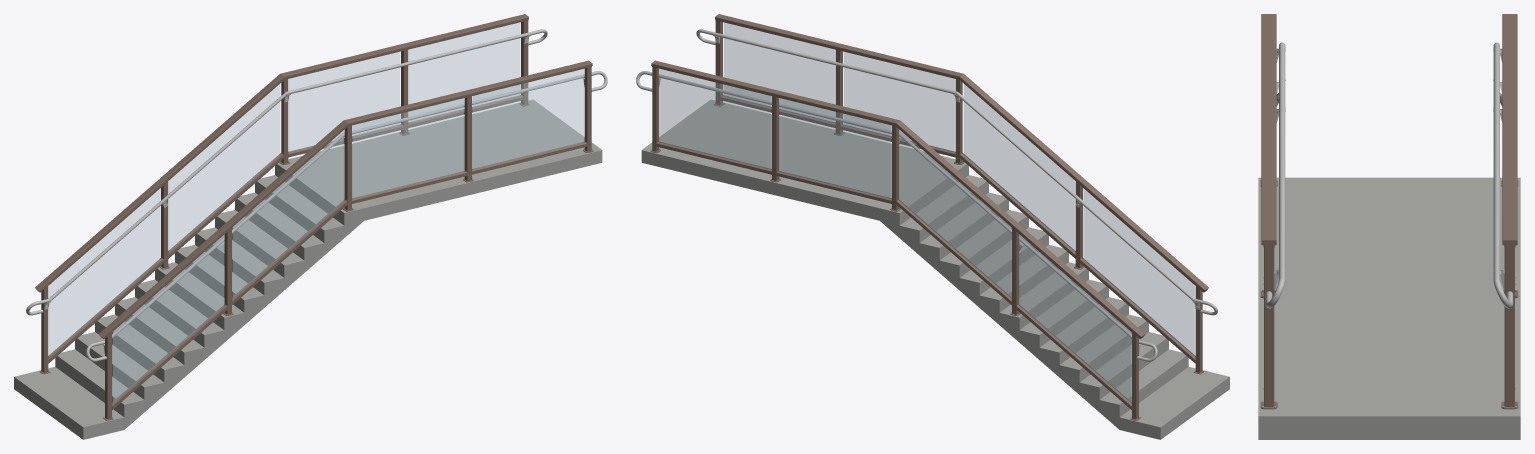
3 views of the same model, side by side, from view 1: azimuth 30°, elevation 25°; view 2: azimuth 150°, elevation 25°; view 3: azimuth 270°, elevation 25° (orthographic). The views are drawn at different scales.
Parts seen in each view (by area): view 1: Component_59_1, Component_63_1, Component_63_2, Component_21_1, Component_21_2, Component_21_3, Component_21_4, Component_63_4, Component_63_3, Component_58_1, Component_58_2, Component_13_2 (+16 smaller); view 2: Component_59_1, Component_63_3, Component_63_4, Component_21_3, Component_21_4, Component_21_1, Component_21_2, Component_63_2, Component_63_1, Component_58_2, Component_58_1, Component_13_1 (+16 smaller); view 3: Component_59_1, Component_58_2, Component_58_1, Component_13_1, Component_13_2, Component_28_1, Component_28_2.
Boxes of the visible parts, x1=… form: Component_59_1: x1=14, y1=99, x2=602, y2=439; Component_63_1: x1=473, y1=69, x2=583, y2=169; Component_63_2: x1=353, y1=98, x2=463, y2=198; Component_21_1: x1=113, y1=235, x2=223, y2=402; Component_21_2: x1=233, y1=130, x2=343, y2=297; Component_21_3: x1=49, y1=189, x2=160, y2=356; Component_21_4: x1=169, y1=84, x2=279, y2=251; Component_63_4: x1=289, y1=52, x2=399, y2=152; Component_63_3: x1=409, y1=22, x2=519, y2=122; Component_58_1: x1=35, y1=14, x2=528, y2=292; Component_58_2: x1=99, y1=60, x2=592, y2=338; Component_13_2: x1=26, y1=29, x2=547, y2=315; Component_59_1: x1=641, y1=99, x2=1229, y2=439; Component_63_3: x1=660, y1=69, x2=770, y2=169; Component_63_4: x1=780, y1=98, x2=890, y2=198; Component_21_3: x1=1020, y1=235, x2=1130, y2=402; Component_21_4: x1=900, y1=130, x2=1010, y2=297; Component_21_1: x1=1083, y1=189, x2=1194, y2=356; Component_21_2: x1=964, y1=84, x2=1074, y2=251; Component_63_2: x1=844, y1=52, x2=954, y2=152; Component_63_1: x1=724, y1=22, x2=834, y2=122; Component_58_2: x1=715, y1=14, x2=1208, y2=292; Component_58_1: x1=651, y1=60, x2=1144, y2=338; Component_13_1: x1=696, y1=29, x2=1217, y2=315; Component_59_1: x1=1258, y1=177, x2=1520, y2=439; Component_58_2: x1=1261, y1=14, x2=1276, y2=247; Component_58_1: x1=1502, y1=14, x2=1517, y2=247; Component_13_1: x1=1265, y1=42, x2=1285, y2=308; Component_13_2: x1=1493, y1=42, x2=1513, y2=308; Component_28_1: x1=1264, y1=243, x2=1274, y2=406; Component_28_2: x1=1504, y1=243, x2=1514, y2=406.
Size of the model in its own units: 264 by 120 by 60.
